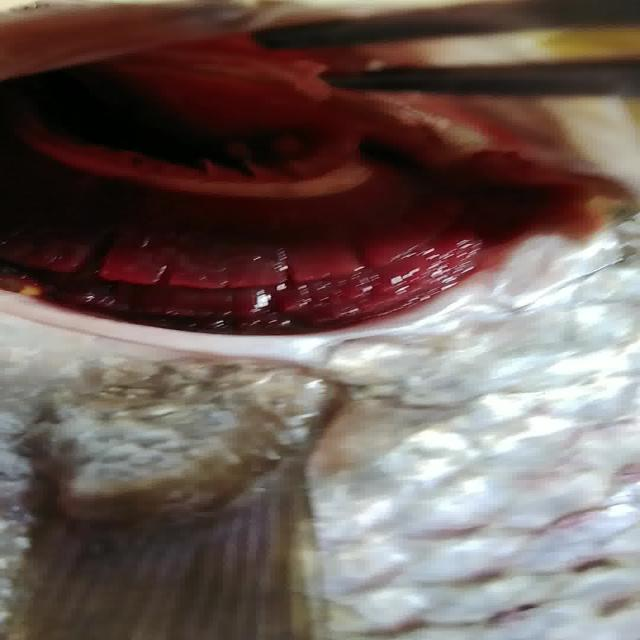Fresh: (2, 75, 597, 356)
